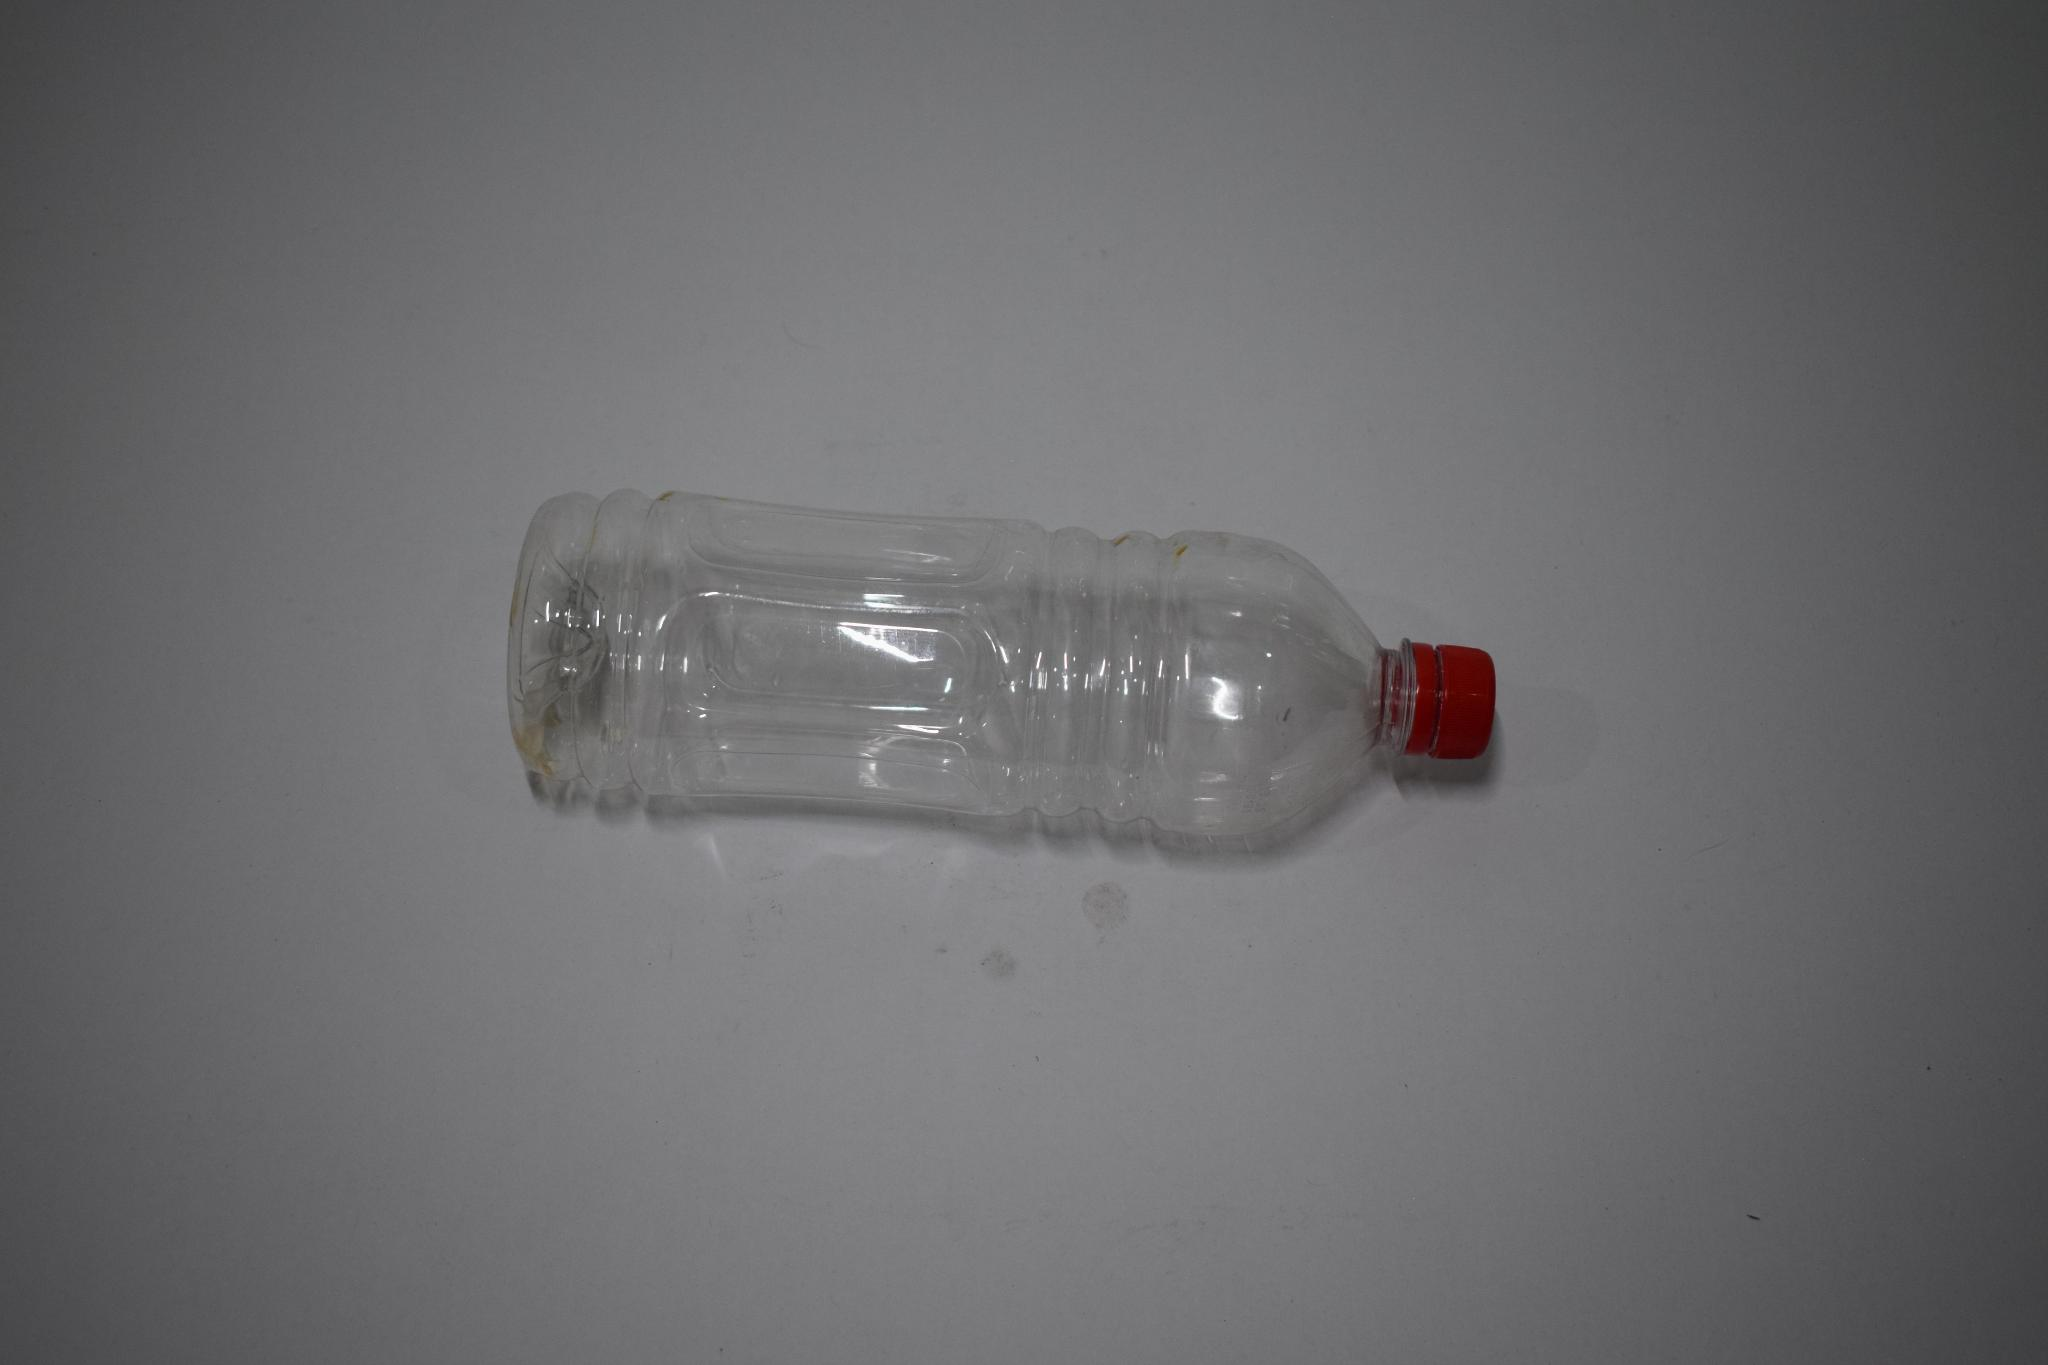bottle: (506, 484, 1501, 862)
